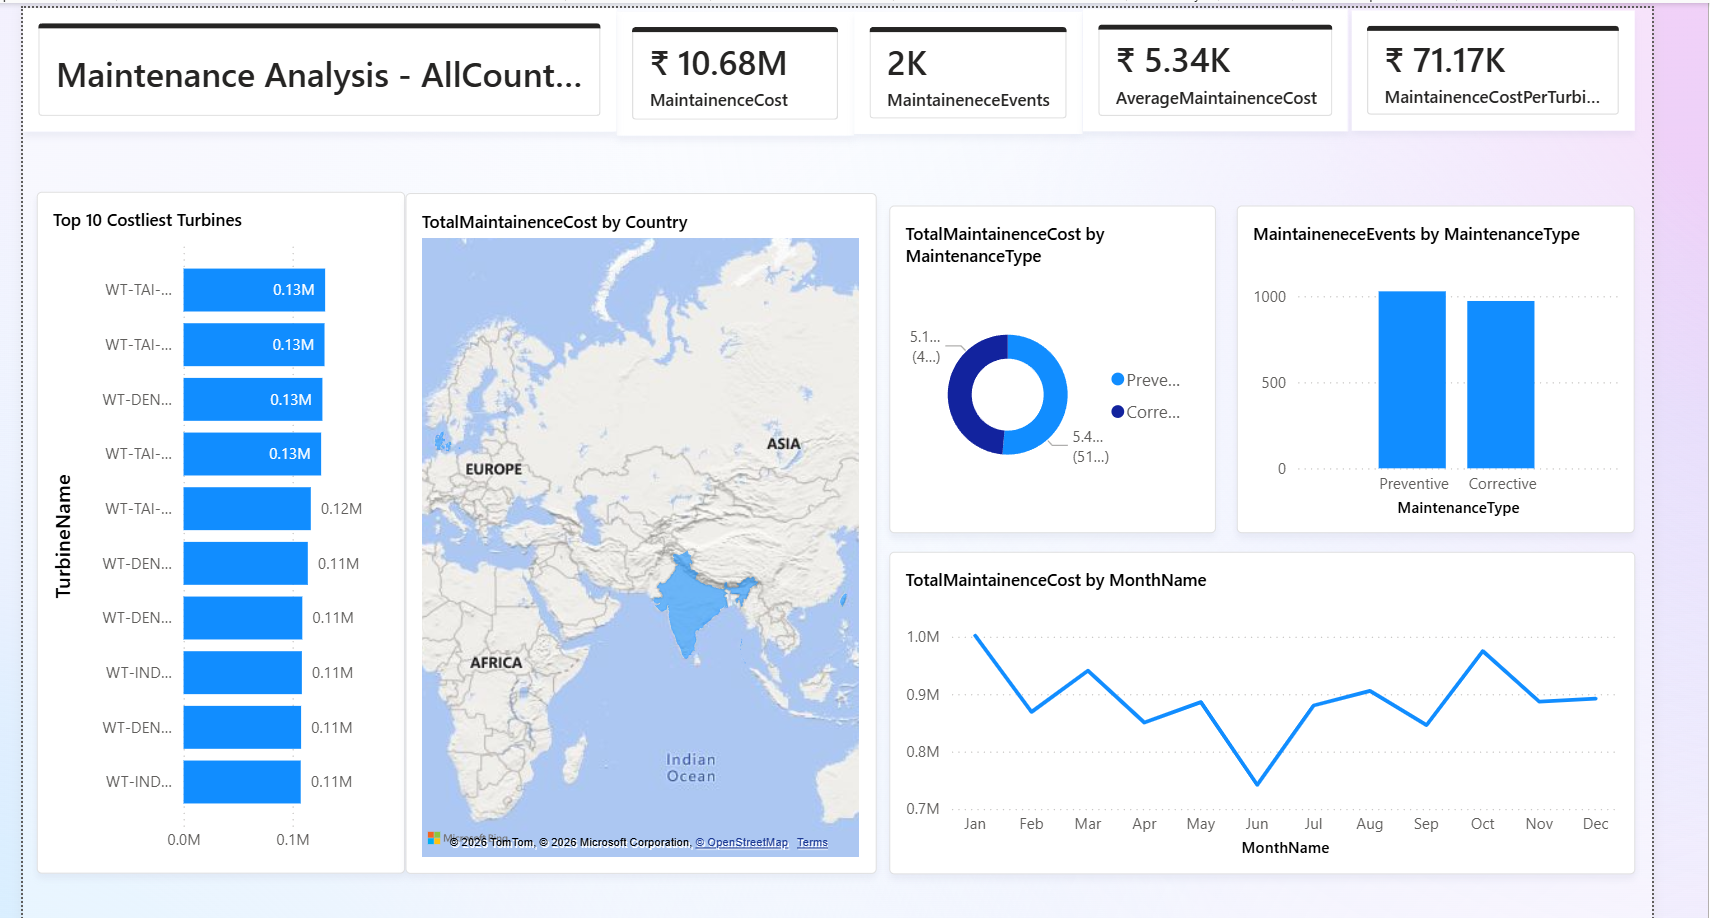

This screenshot's page, from the dashboard's own definition file:
{"tool":"powerbi","page":{"name":"MaintainenceAnalysis","canvas":[1280,720],"ordinal":2},"visuals":[{"type":"cardVisual","fields":{"Data":["Measure.MaintainenceCost"]},"box":[466.6,2.7,186.6,97.4],"z":0},{"type":"cardVisual","fields":{"Data":["Measure.MaintaineneceEvents"]},"box":[653.2,2.7,179.8,96.1],"z":1000},{"type":"cardVisual","fields":{"Data":["Measure.AverageMaintainenceCost"]},"box":[832.9,1.4,208.6,96.1],"z":2000},{"type":"cardVisual","fields":{"Data":["Measure.CostPerTurbine"]},"box":[1044.2,2.3,222.1,94.2],"z":3000},{"type":"donutChart","fields":{"Category":["FactMaintenance.MaintenanceType"],"Y":["Measure.TotalMaintainenceCost"]},"box":[680.6,155.1,256.6,258],"z":4000},{"type":"lineChart","fields":{"Y":["Measure.TotalMaintainenceCost"],"Category":["DimDate.MonthName"]},"box":[680.7,427.1,586.2,253.6],"z":5000},{"type":"barChart","title":"Top 10 Costliest Turbines","fields":{"Y":["Measure.TotalMaintainenceCost"],"Category":["DimTurbines.TurbineName"]},"box":[10.5,144.2,289.5,536],"z":6000},{"type":"filledMap","fields":{"Category":["DimTurbines.Country","DimTurbines.Site","DimTurbines.TurbineID","DimTurbines.TurbineName"]},"box":[300.5,145.5,370.5,535.2],"z":7000},{"type":"clusteredColumnChart","fields":{"Category":["FactMaintenance.MaintenanceType"],"Y":["Measure.MaintaineneceEvents"]},"box":[953.7,155.1,312.9,258],"z":8000},{"type":"cardVisual","fields":{"Data":["Measure.Dynamic Title"]},"box":[0,0,466.6,97.4],"z":9000}]}

Visuals, with their boxes on the page's 1280x720 design canvas (x1, y1, x2, y2). These are canvas units, not pixel positions in the 1710x918 screenshot, which may show the page scaled, cropped or inside an application window:
cardVisual - Measure.MaintainenceCost: {"x1": 467, "y1": 3, "x2": 653, "y2": 100}
cardVisual - Measure.MaintaineneceEvents: {"x1": 653, "y1": 3, "x2": 833, "y2": 99}
cardVisual - Measure.AverageMaintainenceCost: {"x1": 833, "y1": 1, "x2": 1042, "y2": 98}
cardVisual - Measure.CostPerTurbine: {"x1": 1044, "y1": 2, "x2": 1266, "y2": 96}
donutChart - FactMaintenance.MaintenanceType x Measure.TotalMaintainenceCost: {"x1": 681, "y1": 155, "x2": 937, "y2": 413}
lineChart - Measure.TotalMaintainenceCost x DimDate.MonthName: {"x1": 681, "y1": 427, "x2": 1267, "y2": 681}
"Top 10 Costliest Turbines" barChart: {"x1": 10, "y1": 144, "x2": 300, "y2": 680}
filledMap - DimTurbines.Country x DimTurbines.Site: {"x1": 300, "y1": 146, "x2": 671, "y2": 681}
clusteredColumnChart - FactMaintenance.MaintenanceType x Measure.MaintaineneceEvents: {"x1": 954, "y1": 155, "x2": 1267, "y2": 413}
cardVisual - Measure.Dynamic Title: {"x1": 0, "y1": 0, "x2": 467, "y2": 97}
